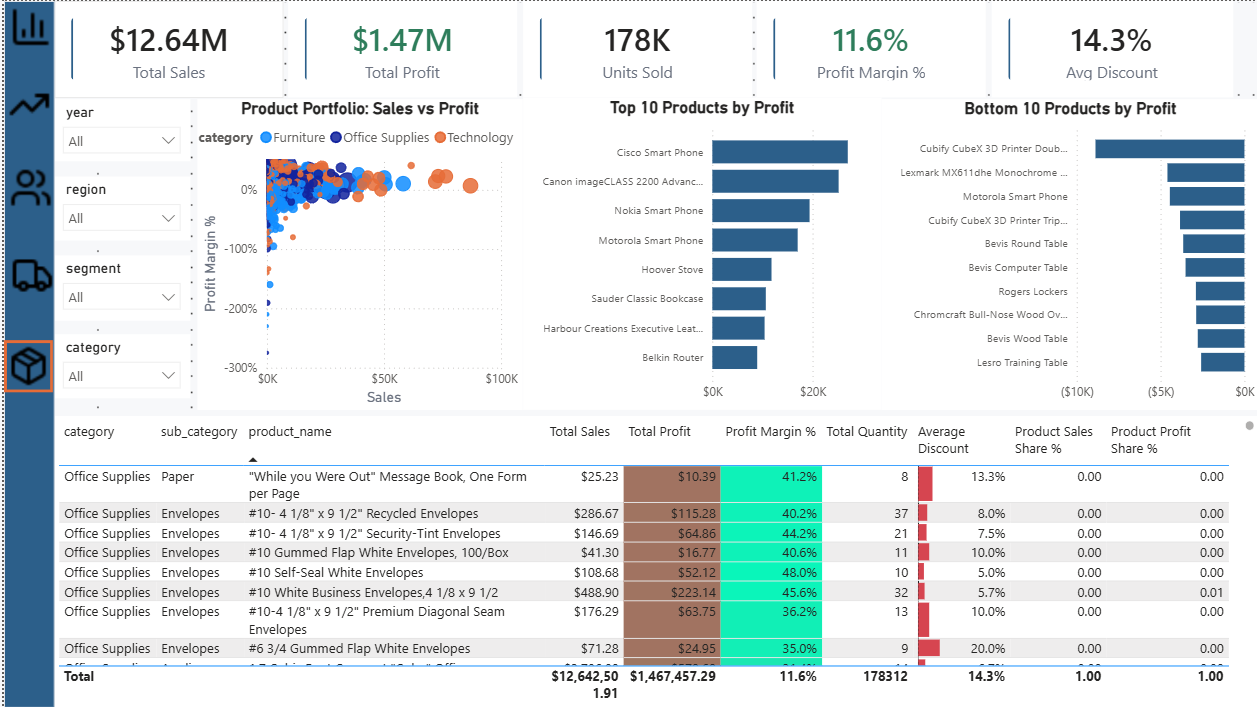

The page's visual inventory and layout, read from the dashboard file:
{"tool":"powerbi","page":{"name":"Product Performance & Portfolio Analysis","canvas":[1280,720],"ordinal":4},"visuals":[{"type":"shape","box":[0,0,51.7,720],"z":0,"group":"g1"},{"type":"cardVisual","fields":{"Data":["_Measures.Total Sales"]},"box":[51.3,0,233.2,98.4],"z":0},{"type":"actionButton","box":[1.7,0,51.7,53.3],"z":1000,"group":"g1"},{"type":"cardVisual","fields":{"Data":["_Measures.Total Profit"]},"box":[289.8,0,233.2,98.4],"z":1000},{"type":"cardVisual","fields":{"Data":["_Measures.Total Quantity"]},"box":[528.4,0,233.2,98.4],"z":2000},{"type":"actionButton","box":[0,78.3,51.7,53.3],"z":2000,"group":"g1"},{"type":"cardVisual","fields":{"Data":["_Measures.Profit Margin %"]},"box":[766.9,0,233.2,98.4],"z":3000},{"type":"actionButton","box":[1.7,163.3,51.7,53.3],"z":3000,"group":"g1"},{"type":"cardVisual","fields":{"Data":["_Measures.Average Discount"]},"box":[1005.4,0,246,98.4],"z":4000},{"type":"actionButton","box":[3.3,253.3,51.7,53.3],"z":4000,"group":"g1"},{"type":"slicer","fields":{"Values":["dim.date.year"]},"box":[50,100,140,63.3],"z":5000},{"type":"actionButton","box":[0,345,50,53.3],"z":5000,"group":"g1"},{"type":"slicer","fields":{"Values":["dim.geography.region"]},"box":[50,178.3,140,65],"z":6000},{"type":"slicer","fields":{"Values":["dim.customer.segment"]},"box":[50,258.3,140,66.7],"z":7000},{"type":"slicer","fields":{"Values":["dim.product.category"]},"box":[50,340,140,65],"z":8000},{"type":"scatterChart","title":"Product Portfolio: Sales vs Profit","fields":{"X":["_Measures.Total Sales"],"Y":["_Measures.Profit Margin %"],"Size":["_Measures.Total Quantity"],"Series":["dim.product.category"],"Category":["dim.product.product_name"]},"box":[196.7,100,331.7,316.7],"z":9000},{"type":"clusteredBarChart","title":"Top 10 Products by Profit","fields":{"Category":["dim.product.product_short_name"],"Y":["_Measures.Total Profit"]},"box":[528.8,98.5,365.2,318.2],"z":10000},{"type":"clusteredBarChart","title":"Bottom 10 Products by Profit","fields":{"Category":["dim.product.product_short_name"],"Y":["_Measures.Total Profit"]},"box":[893.9,100,384.8,316.7],"z":11000},{"type":"tableEx","fields":{"Values":["dim.product.category","dim.product.sub_category","dim.product.product_name","_Measures.Total Sales","_Measures.Total Profit","_Measures.Profit Margin %","_Measures.Total Quantity","_Measures.Average Discount","_Measures.Product Sales Share %","_Measures.Product Profit Share %"]},"box":[50.6,422.3,1228.3,297.4],"z":12000},{"type":"group","id":"g1","title":"Group 1","box":[0,0,55,720],"z":12001}]}

Visuals, with their boxes on the page's 1280x720 design canvas (x1, y1, x2, y2). These are canvas units, not pixel positions in the 1257x707 screenshot, which may show the page scaled, cropped or inside an application window:
shape: x1=0 y1=0 x2=52 y2=720
cardVisual - _Measures.Total Sales: x1=51 y1=0 x2=284 y2=98
actionButton: x1=2 y1=0 x2=53 y2=53
cardVisual - _Measures.Total Profit: x1=290 y1=0 x2=523 y2=98
cardVisual - _Measures.Total Quantity: x1=528 y1=0 x2=762 y2=98
actionButton: x1=0 y1=78 x2=52 y2=132
cardVisual - _Measures.Profit Margin %: x1=767 y1=0 x2=1000 y2=98
actionButton: x1=2 y1=163 x2=53 y2=217
cardVisual - _Measures.Average Discount: x1=1005 y1=0 x2=1251 y2=98
actionButton: x1=3 y1=253 x2=55 y2=307
slicer - dim.date.year: x1=50 y1=100 x2=190 y2=163
actionButton: x1=0 y1=345 x2=50 y2=398
slicer - dim.geography.region: x1=50 y1=178 x2=190 y2=243
slicer - dim.customer.segment: x1=50 y1=258 x2=190 y2=325
slicer - dim.product.category: x1=50 y1=340 x2=190 y2=405
"Product Portfolio: Sales vs Profit" scatterChart: x1=197 y1=100 x2=528 y2=417
"Top 10 Products by Profit" clusteredBarChart: x1=529 y1=98 x2=894 y2=417
"Bottom 10 Products by Profit" clusteredBarChart: x1=894 y1=100 x2=1279 y2=417
tableEx - dim.product.category x dim.product.sub_category: x1=51 y1=422 x2=1279 y2=720
"Group 1" group: x1=0 y1=0 x2=55 y2=720
